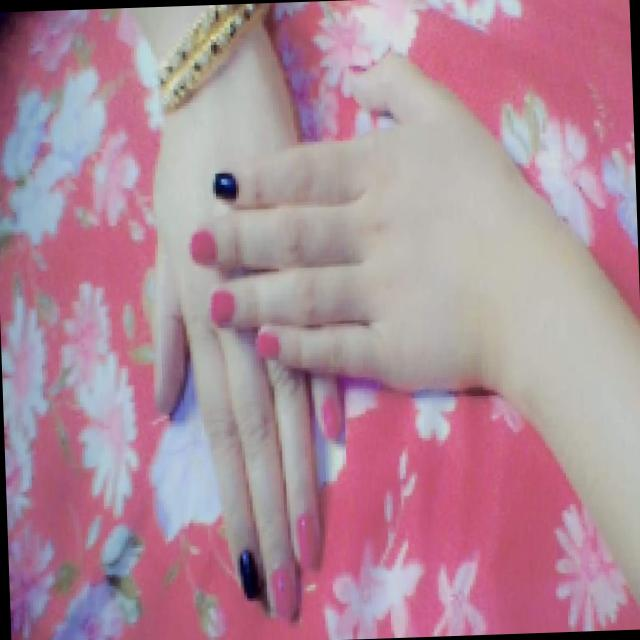Nail: (268, 567, 297, 617), (296, 512, 321, 567), (237, 549, 260, 599), (190, 226, 218, 264), (210, 288, 235, 325), (320, 395, 340, 437), (256, 330, 279, 358), (213, 172, 237, 198)
